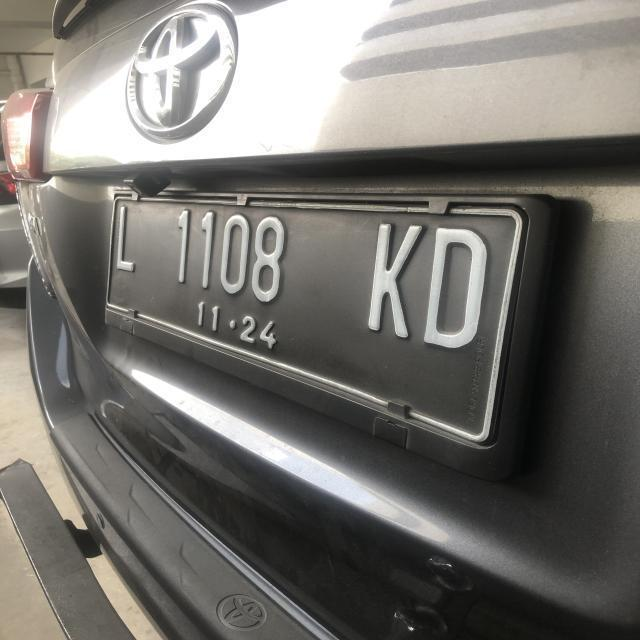0: (217, 213, 253, 298)
1: (196, 208, 224, 290), (176, 208, 198, 286)
8: (246, 214, 291, 305)
D: (422, 226, 489, 348)
K: (362, 218, 426, 342)
L: (113, 206, 139, 272)
